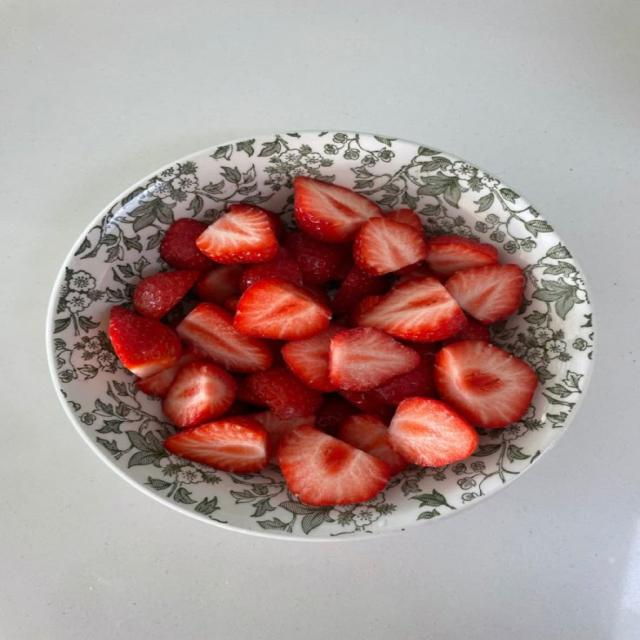strawberry sliced: (279, 426, 390, 506), (435, 341, 537, 427), (358, 278, 466, 341), (177, 303, 273, 372), (388, 398, 478, 466), (234, 278, 331, 339), (329, 328, 419, 391), (294, 177, 381, 242), (165, 417, 267, 472), (109, 306, 181, 377), (196, 205, 278, 264), (446, 264, 524, 324), (163, 363, 235, 427), (282, 325, 344, 392), (338, 415, 407, 475), (354, 218, 426, 275), (246, 366, 322, 418), (283, 232, 352, 284), (249, 412, 315, 464), (135, 346, 201, 397), (133, 270, 200, 320), (427, 235, 498, 277), (376, 357, 435, 405), (332, 266, 390, 313), (240, 248, 302, 291), (160, 218, 211, 270), (195, 265, 243, 304), (316, 394, 358, 435), (340, 391, 393, 420), (135, 365, 179, 397), (443, 318, 490, 345), (347, 295, 384, 326), (252, 205, 285, 239), (236, 376, 267, 408), (395, 261, 439, 281), (385, 209, 423, 232), (304, 284, 331, 307), (227, 400, 255, 416), (223, 295, 239, 314)
